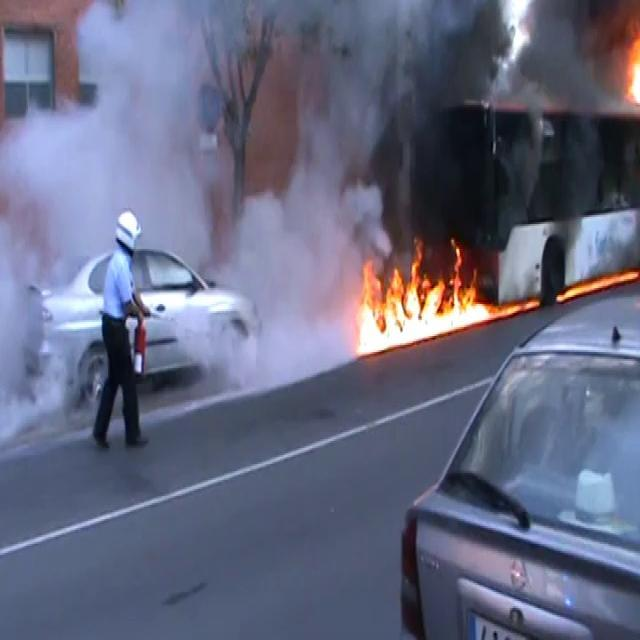Fire: (352, 237, 495, 351), (624, 18, 640, 110)
Smoke: (14, 0, 629, 267), (0, 124, 72, 474)
